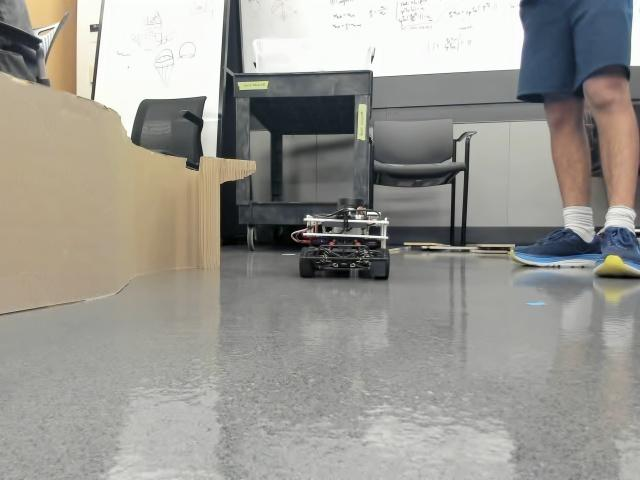Car: (290, 194, 389, 282)
